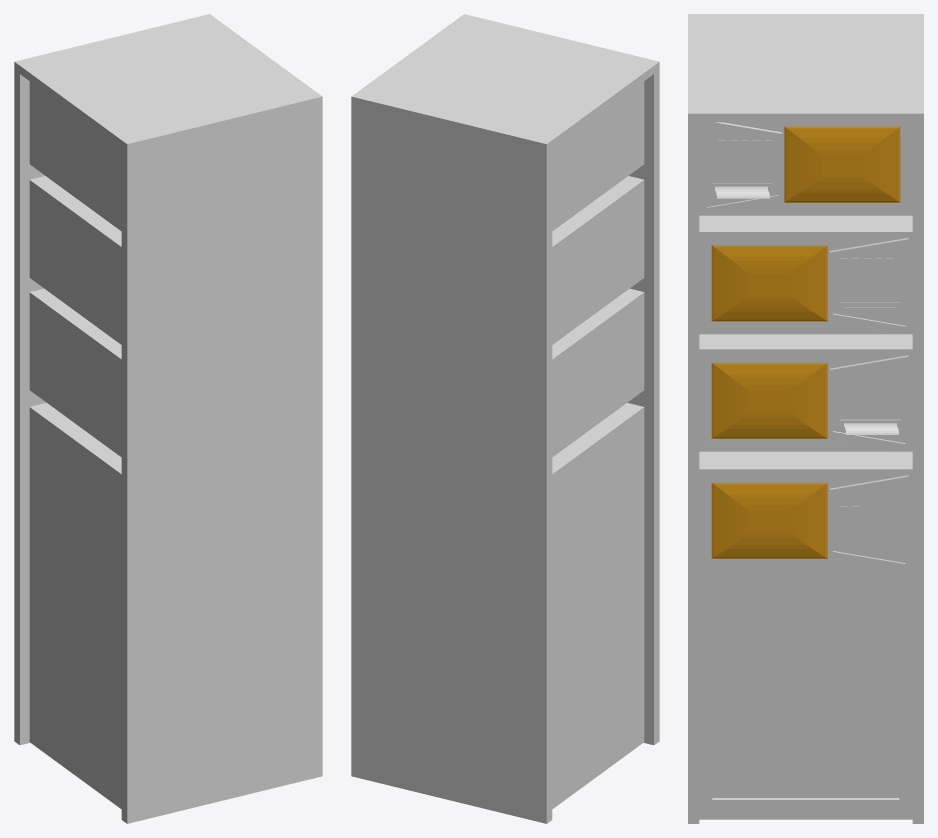
The model's file is Server2.fbx.
3 views of the same model, side by side, from view 1: azimuth 30°, elevation 25°; view 2: azimuth 150°, elevation 25°; view 3: azimuth 270°, elevation 25° (orthographic). The views are drawn at different scales.
Visible parts, largest first — view 1: Cube.008, Cube, Cube.019, Cube.018, Cube.028; view 2: Cube.008, Cube, Cube.019, Cube.018, Cube.028; view 3: Cube, Cube.008, Cube.019, Cube.018, Cube.028, Cube.001, Cube.007, Cube.020.
Part boxes in pixels (bbox=[...]): Cube.008: bbox=[14, 14, 322, 823]; Cube: bbox=[29, 403, 121, 808]; Cube.019: bbox=[29, 176, 121, 344]; Cube.018: bbox=[29, 288, 121, 457]; Cube.028: bbox=[29, 81, 121, 231]; Cube.008: bbox=[351, 14, 659, 823]; Cube: bbox=[552, 403, 644, 808]; Cube.019: bbox=[552, 176, 644, 344]; Cube.018: bbox=[552, 288, 644, 457]; Cube.028: bbox=[552, 81, 644, 231]; Cube: bbox=[699, 451, 912, 819]; Cube.008: bbox=[688, 14, 923, 823]; Cube.019: bbox=[699, 215, 912, 334]; Cube.018: bbox=[699, 334, 912, 451]; Cube.028: bbox=[699, 122, 912, 215]; Cube.001: bbox=[715, 186, 769, 198]; Cube.007: bbox=[844, 423, 898, 435]; Cube.020: bbox=[840, 302, 900, 309].
Size of the model in its own units: 33.21 by 106 by 31.94.
